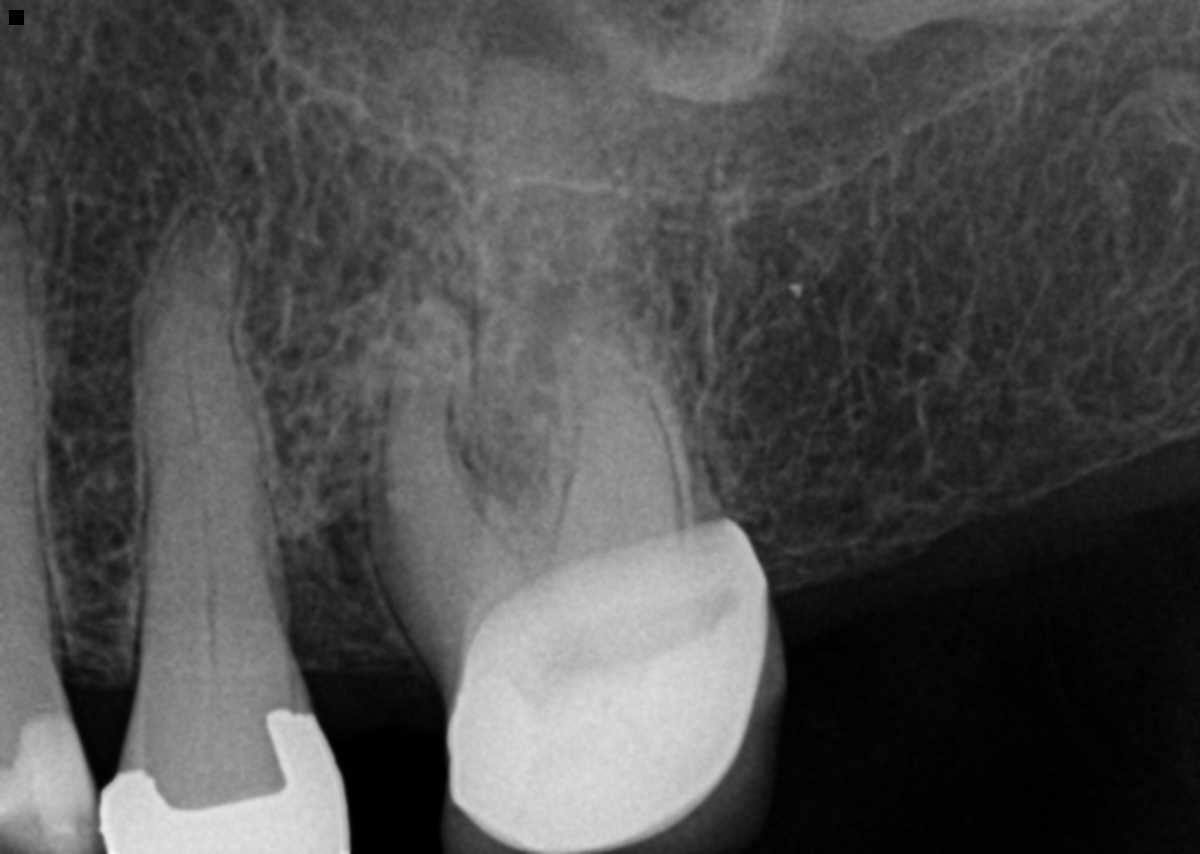Apical Lesion: (354, 242, 475, 344), (449, 0, 598, 80)
Distal Root: (547, 362, 687, 575)
Main Canal: (183, 262, 224, 688)
Main Root: (137, 205, 298, 689), (0, 215, 64, 675)
Mesial Root: (369, 304, 528, 656)
Palatal Root: (469, 49, 709, 613)
